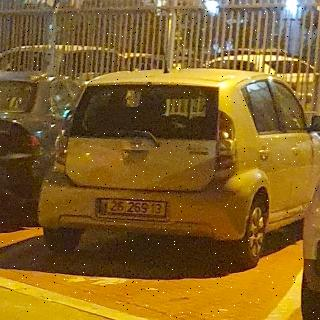LicensePlate: (107, 200, 164, 214)
